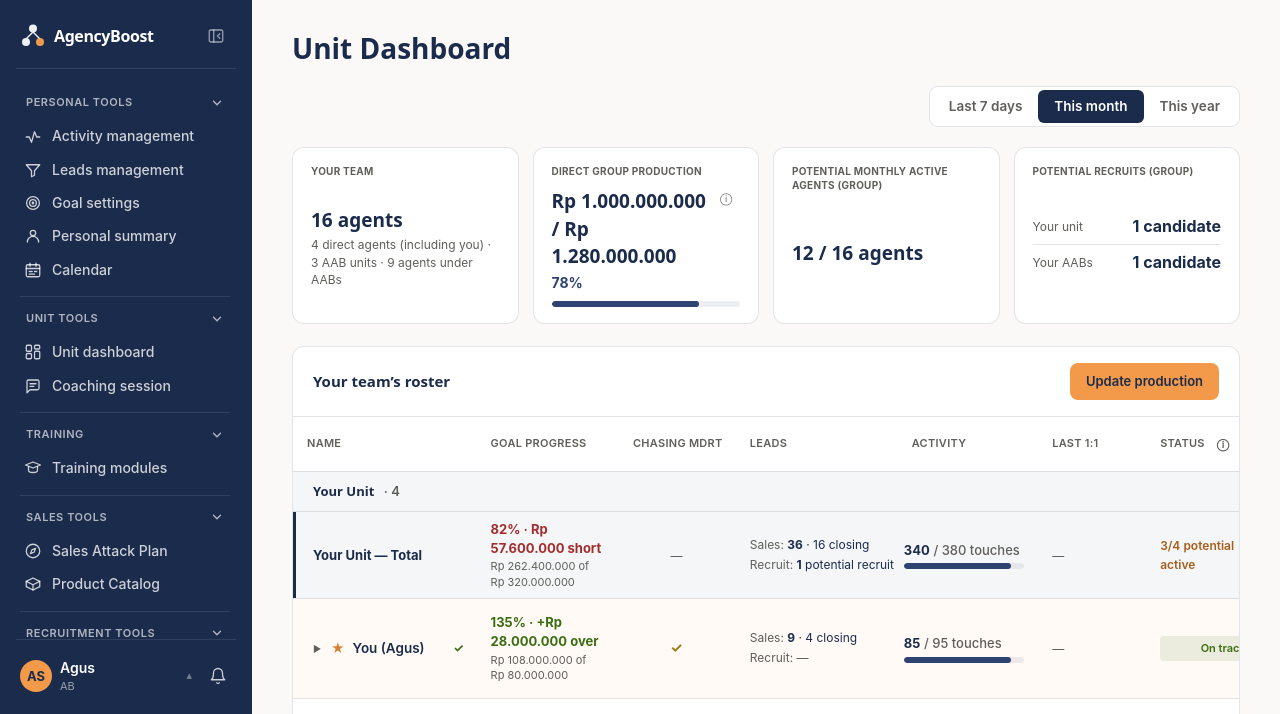
Test case: screens have no axe violations › the Unit Dashboard (P15-T2 AC-9) › with Update production open
Click the button "Update production" at (1144, 382), box [1070,363,1219,400]
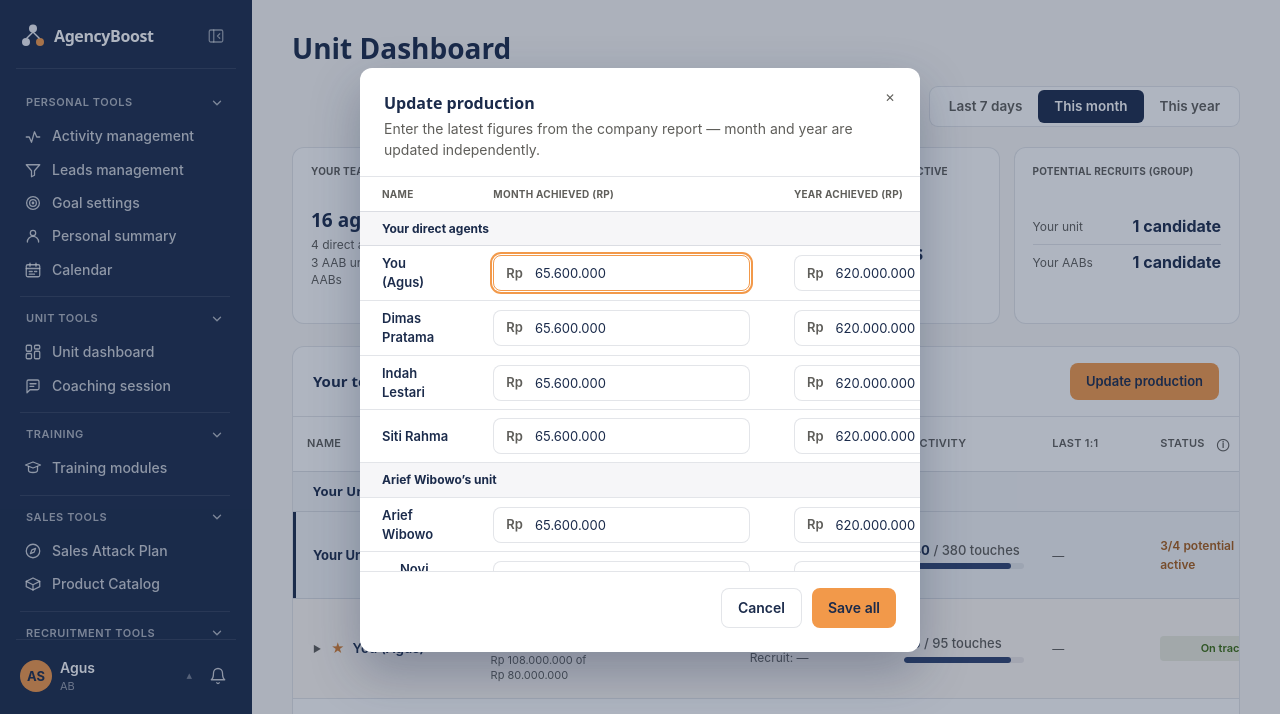
Expected: the dialog "Update production" is shown, [360,68,920,652]
